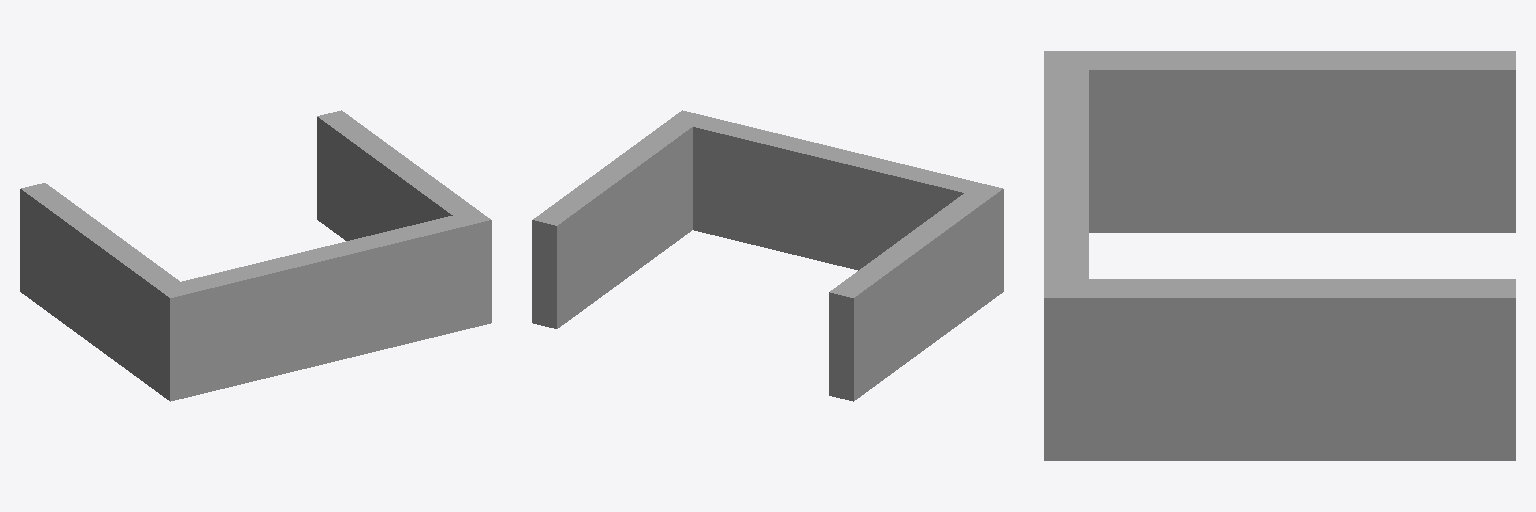
URDF robot description (ur5):
<?xml version="1.0" ?>
<!-- =================================================================================== -->
<!-- |    This document was autogenerated by xacro from [local-path]/devel/isae/install/share/ur5_description/urdf/ur5_joint_limited_robot.urdf.xacro | -->
<!-- |    EDITING THIS FILE BY HAND IS NOT RECOMMENDED                                 | -->
<!-- =================================================================================== -->
<robot name="ur5" xmlns:xacro="http://www.ros.org/wiki/xacro">
  <!-- common stuff -->
  <gazebo>
    <plugin filename="libgazebo_ros_control.so" name="ros_control">
      <!--robotNamespace>/</robotNamespace-->
      <!--robotSimType>gazebo_ros_control/DefaultRobotHWSim</robotSimType-->
    </plugin>
    <!--
    <plugin name="gazebo_ros_power_monitor_controller" filename="libgazebo_ros_power_monitor.so">
      <alwaysOn>true</alwaysOn>
      <updateRate>1.0</updateRate>
      <timeout>5</timeout>
      <powerStateTopic>power_state</powerStateTopic>
      <powerStateRate>10.0</powerStateRate>
      <fullChargeCapacity>87.78</fullChargeCapacity>
      <dischargeRate>-474</dischargeRate>
      <chargeRate>525</chargeRate>
      <dischargeVoltage>15.52</dischargeVoltage>
      <chargeVoltage>16.41</chargeVoltage>
    </plugin>
-->
  </gazebo>
  <!-- ur5 -->
  <!-- Inertia parameters -->
  <!-- This mass might be incorrect -->
  <!-- Kinematic model -->
  <!-- Properties from urcontrol.conf -->
  <!--
    DH for UR5:
    a = [0.00000, -0.42500, -0.39225,  0.00000,  0.00000,  0.0000]
    d = [0.089159,  0.00000,  0.00000,  0.10915,  0.09465,  0.0823]
    alpha = [ 1.570796327, 0, 0, 1.570796327, -1.570796327, 0 ]
    q_home_offset = [0, -1.570796327, 0, -1.570796327, 0, 0]
    joint_direction = [-1, -1, 1, 1, 1, 1]
    mass = [3.7000, 8.3930, 2.2750, 1.2190, 1.2190, 0.1879]
    center_of_mass = [ [0, -0.02561, 0.00193], [0.2125, 0, 0.11336], [0.11993, 0.0, 0.0265], [0, -0.0018, 0.01634], [0, 0.0018,0.01634], [0, 0, -0.001159] ]
  -->
  <!-- Arbitrary offsets for shoulder/elbow joints -->
  <!-- measured from model -->
  <!-- measured from model -->
  <!-- link lengths used in model -->
  <!--property name="shoulder_height" value="0.089159" /-->
  <!--property name="shoulder_offset" value="0.13585" /-->
  <!-- shoulder_offset - elbow_offset + wrist_1_length = 0.10915 -->
  <!--property name="upper_arm_length" value="0.42500" /-->
  <!--property name="elbow_offset" value="0.1197" /-->
  <!-- CAD measured -->
  <!--property name="forearm_length" value="0.39225" /-->
  <!--property name="wrist_1_length" value="0.093" /-->
  <!-- CAD measured -->
  <!--property name="wrist_2_length" value="0.09465" /-->
  <!-- In CAD this distance is 0.930, but in the spec it is 0.09465 -->
  <!--property name="wrist_3_length" value="0.0823" /-->
  <!-- manually measured -->
  <!-- manually measured -->
  <!-- manually measured -->
  <!-- manually measured -->
  <!-- manually measured -->
  <!-- arm -->
  <link name="base_link">
    <visual>
      <geometry>
        <mesh filename="package://ur5_description/meshes/ur5/visual/base.dae"/>
      </geometry>
      <material name="LightGrey">
        <color rgba="0.7 0.7 0.7 1.0"/>
      </material>
    </visual>
    <collision>
      <geometry>
        <mesh filename="package://ur5_description/meshes/ur5/collision/base.stl"/>
      </geometry>
    </collision>
    <inertial>
      <mass value="4.0"/>
      <origin rpy="0 0 0" xyz="0.0 0.0 0.0"/>
      <inertia ixx="0.00443333156" ixy="0.0" ixz="0.0" iyy="0.00443333156" iyz="0.0" izz="0.0072"/>
    </inertial>
  </link>
  <joint name="shoulder_pan_joint" type="revolute">
    <parent link="base_link"/>
    <child link="shoulder_link"/>
    <origin rpy="0.0 0.0 0.0" xyz="0.0 0.0 0.089159"/>
    <axis xyz="0 0 1"/>
    <limit effort="150.0" lower="-3.14159265" upper="3.14159265" velocity="3.15"/>
    <dynamics damping="0.0" friction="0.0"/>
  </joint>
  <link name="shoulder_link">
    <visual>
      <geometry>
        <mesh filename="package://ur5_description/meshes/ur5/visual/shoulder.dae"/>
      </geometry>
      <material name="LightGrey">
        <color rgba="0.7 0.7 0.7 1.0"/>
      </material>
    </visual>
    <collision>
      <geometry>
        <mesh filename="package://ur5_description/meshes/ur5/collision/shoulder.stl"/>
      </geometry>
    </collision>
    <inertial>
      <mass value="3.7"/>
      <origin rpy="0 0 0" xyz="0.0 0.0 0.0"/>
      <inertia ixx="0.010267495893" ixy="0.0" ixz="0.0" iyy="0.010267495893" iyz="0.0" izz="0.00666"/>
    </inertial>
  </link>
  <joint name="shoulder_lift_joint" type="revolute">
    <parent link="shoulder_link"/>
    <child link="upper_arm_link"/>
    <origin rpy="0.0 1.570796325 0.0" xyz="0.0 0.13585 0.0"/>
    <axis xyz="0 1 0"/>
    <limit effort="150.0" lower="-3.14159265" upper="3.14159265" velocity="3.15"/>
    <dynamics damping="0.0" friction="0.0"/>
  </joint>
  <link name="upper_arm_link">
    <visual>
      <geometry>
        <mesh filename="package://ur5_description/meshes/ur5/visual/upperarm.dae"/>
      </geometry>
      <material name="LightGrey">
        <color rgba="0.7 0.7 0.7 1.0"/>
      </material>
    </visual>
    <collision>
      <geometry>
        <mesh filename="package://ur5_description/meshes/ur5/collision/upperarm.stl"/>
      </geometry>
    </collision>
    <inertial>
      <mass value="8.393"/>
      <origin rpy="0 0 0" xyz="0.0 0.0 0.28"/>
      <inertia ixx="0.22689067591" ixy="0.0" ixz="0.0" iyy="0.22689067591" iyz="0.0" izz="0.0151074"/>
    </inertial>
  </link>
  <joint name="elbow_joint" type="revolute">
    <parent link="upper_arm_link"/>
    <child link="forearm_link"/>
    <origin rpy="0.0 0.0 0.0" xyz="0.0 -0.1197 0.425"/>
    <axis xyz="0 1 0"/>
    <limit effort="150.0" lower="-3.14159265" upper="3.14159265" velocity="3.15"/>
    <dynamics damping="0.0" friction="0.0"/>
  </joint>
  <link name="forearm_link">
    <visual>
      <geometry>
        <mesh filename="package://ur5_description/meshes/ur5/visual/forearm.dae"/>
      </geometry>
      <material name="LightGrey">
        <color rgba="0.7 0.7 0.7 1.0"/>
      </material>
    </visual>
    <collision>
      <geometry>
        <mesh filename="package://ur5_description/meshes/ur5/collision/forearm.stl"/>
      </geometry>
    </collision>
    <inertial>
      <mass value="2.275"/>
      <origin rpy="0 0 0" xyz="0.0 0.0 0.25"/>
      <inertia ixx="0.049443313556" ixy="0.0" ixz="0.0" iyy="0.049443313556" iyz="0.0" izz="0.004095"/>
    </inertial>
  </link>
  <joint name="wrist_1_joint" type="revolute">
    <parent link="forearm_link"/>
    <child link="wrist_1_link"/>
    <origin rpy="0.0 1.570796325 0.0" xyz="0.0 0.0 0.39225"/>
    <axis xyz="0 1 0"/>
    <limit effort="28.0" lower="-3.14159265" upper="3.14159265" velocity="3.2"/>
    <dynamics damping="0.0" friction="0.0"/>
  </joint>
  <link name="wrist_1_link">
    <visual>
      <geometry>
        <mesh filename="package://ur5_description/meshes/ur5/visual/wrist1.dae"/>
      </geometry>
      <material name="LightGrey">
        <color rgba="0.7 0.7 0.7 1.0"/>
      </material>
    </visual>
    <collision>
      <geometry>
        <mesh filename="package://ur5_description/meshes/ur5/collision/wrist1.stl"/>
      </geometry>
    </collision>
    <inertial>
      <mass value="1.219"/>
      <origin rpy="0 0 0" xyz="0.0 0.0 0.0"/>
      <inertia ixx="0.111172755531" ixy="0.0" ixz="0.0" iyy="0.111172755531" iyz="0.0" izz="0.21942"/>
    </inertial>
  </link>
  <joint name="wrist_2_joint" type="revolute">
    <parent link="wrist_1_link"/>
    <child link="wrist_2_link"/>
    <origin rpy="0.0 0.0 0.0" xyz="0.0 0.093 0.0"/>
    <axis xyz="0 0 1"/>
    <limit effort="28.0" lower="-3.14159265" upper="3.14159265" velocity="3.2"/>
    <dynamics damping="0.0" friction="0.0"/>
  </joint>
  <link name="wrist_2_link">
    <visual>
      <geometry>
        <mesh filename="package://ur5_description/meshes/ur5/visual/wrist2.dae"/>
      </geometry>
      <material name="LightGrey">
        <color rgba="0.7 0.7 0.7 1.0"/>
      </material>
    </visual>
    <collision>
      <geometry>
        <mesh filename="package://ur5_description/meshes/ur5/collision/wrist2.stl"/>
      </geometry>
    </collision>
    <inertial>
      <mass value="1.219"/>
      <origin rpy="0 0 0" xyz="0.0 0.0 0.0"/>
      <inertia ixx="0.111172755531" ixy="0.0" ixz="0.0" iyy="0.111172755531" iyz="0.0" izz="0.21942"/>
    </inertial>
  </link>
  <joint name="wrist_3_joint" type="revolute">
    <parent link="wrist_2_link"/>
    <child link="wrist_3_link"/>
    <origin rpy="0.0 0.0 0.0" xyz="0.0 0.0 0.09465"/>
    <axis xyz="0 1 0"/>
    <limit effort="28.0" lower="-3.14159265" upper="3.14159265" velocity="3.2"/>
    <dynamics damping="0.0" friction="0.0"/>
  </joint>
  <link name="wrist_3_link">
    <visual>
      <geometry>
        <mesh filename="package://ur5_description/meshes/ur5/visual/wrist3.dae"/>
      </geometry>
      <material name="LightGrey">
        <color rgba="0.7 0.7 0.7 1.0"/>
      </material>
    </visual>
    <collision>
      <geometry>
        <mesh filename="package://ur5_description/meshes/ur5/collision/wrist3.stl"/>
      </geometry>
    </collision>
    <inertial>
      <mass value="0.1879"/>
      <origin rpy="0 0 0" xyz="0.0 0.0 0.0"/>
      <inertia ixx="0.0171364731454" ixy="0.0" ixz="0.0" iyy="0.0171364731454" iyz="0.0" izz="0.033822"/>
    </inertial>
  </link>
  <joint name="ee_fixed_joint" type="fixed">
    <parent link="wrist_3_link"/>
    <child link="ee_link"/>
    <origin rpy="0.0 0.0 1.570796325" xyz="0.0 0.0823 0.0"/>
  </joint>
  <link name="ee_link">
    <collision>
      <geometry>
        <box size="0.01 0.01 0.01"/>
      </geometry>
      <origin rpy="0 0 0" xyz="-0.01 0 0"/>
    </collision>
  </link>
  <transmission name="shoulder_pan_trans">
    <type>transmission_interface/SimpleTransmission</type>
    <joint name="shoulder_pan_joint">
      <hardwareInterface>PositionJointInterface</hardwareInterface>
    </joint>
    <actuator name="shoulder_pan_motor">
      <mechanicalReduction>1</mechanicalReduction>
    </actuator>
  </transmission>
  <transmission name="shoulder_lift_trans">
    <type>transmission_interface/SimpleTransmission</type>
    <joint name="shoulder_lift_joint">
      <hardwareInterface>PositionJointInterface</hardwareInterface>
    </joint>
    <actuator name="shoulder_lift_motor">
      <mechanicalReduction>1</mechanicalReduction>
    </actuator>
  </transmission>
  <transmission name="elbow_trans">
    <type>transmission_interface/SimpleTransmission</type>
    <joint name="elbow_joint">
      <hardwareInterface>PositionJointInterface</hardwareInterface>
    </joint>
    <actuator name="elbow_motor">
      <mechanicalReduction>1</mechanicalReduction>
    </actuator>
  </transmission>
  <transmission name="wrist_1_trans">
    <type>transmission_interface/SimpleTransmission</type>
    <joint name="wrist_1_joint">
      <hardwareInterface>PositionJointInterface</hardwareInterface>
    </joint>
    <actuator name="wrist_1_motor">
      <mechanicalReduction>1</mechanicalReduction>
    </actuator>
  </transmission>
  <transmission name="wrist_2_trans">
    <type>transmission_interface/SimpleTransmission</type>
    <joint name="wrist_2_joint">
      <hardwareInterface>PositionJointInterface</hardwareInterface>
    </joint>
    <actuator name="wrist_2_motor">
      <mechanicalReduction>1</mechanicalReduction>
    </actuator>
  </transmission>
  <transmission name="wrist_3_trans">
    <type>transmission_interface/SimpleTransmission</type>
    <joint name="wrist_3_joint">
      <hardwareInterface>PositionJointInterface</hardwareInterface>
    </joint>
    <actuator name="wrist_3_motor">
      <mechanicalReduction>1</mechanicalReduction>
    </actuator>
  </transmission>
  <!-- nothing to do here at the moment -->
  <!-- ROS base_link to UR 'Base' Coordinates transform -->
  <link name="base"/>
  <joint name="base_link-base_fixed_joint" type="fixed">
    <!-- NOTE: this rotation is only needed as long as base_link itself is
                 not corrected wrt the real robot (ie: rotated over 180
                 degrees)
      -->
    <origin rpy="0 0 -3.14159265" xyz="0 0 0"/>
    <parent link="base_link"/>
    <child link="base"/>
  </joint>
  <!-- Frame coincident with all-zeros TCP on UR controller -->
  <link name="tool0">
    <visual>
      <geometry>
	<box size="0.005 0.02 0.05" />
      </geometry>
      <origin xyz="0.03 0 0.035" />
      <material name="LightGrey">
        <color rgba="0.7 0.7 0.7 1.0"/>
      </material>
    </visual>
    <visual>
      <geometry>
	<box size="0.005 0.02 0.05" />
      </geometry>
      <origin xyz="-0.03 0 0.035" />
      <material name="LightGrey">
        <color rgba="0.7 0.7 0.7 1.0"/>
      </material>
    </visual>
    <visual>
      <geometry>
	<box size="0.065 0.02 0.005" />
      </geometry>
      <origin xyz="0 0 0.01" />
      <material name="LightGrey">
        <color rgba="0.7 0.7 0.7 1.0"/>
      </material>
    </visual>

    <collision>
      <geometry>
	<box size="0.005 0.02 0.05" />
      </geometry>
      <origin xyz="0.03 0 0.035" />
    </collision>
    <collision>
      <geometry>
	<box size="0.005 0.02 0.05" />
      </geometry>
      <origin xyz="-0.03 0 0.035" />
    </collision>
    <collision>
      <geometry>
	<box size="0.065 0.02 0.005" />
      </geometry>
      <origin xyz="0 0 0.01" />
    </collision>
  </link>
  <joint name="wrist_3_link-tool0_fixed_joint" type="fixed">
    <origin rpy="-1.570796325 0 0" xyz="0 0.0823 0"/>
    <parent link="wrist_3_link"/>
    <child link="tool0"/>
  </joint>
  <link name="world"/>
  <joint name="world_joint" type="fixed">
    <parent link="world"/>
    <child link="base_link"/>
    <origin rpy="0.0 0.0 0.0" xyz="0.0 0.0 0.0"/>
  </joint>
</robot>

--- Render facts (derived) ---
Views: 3 orthographic renders of the robot side by side, from view 1: azimuth 30°, elevation 25°; view 2: azimuth 150°, elevation 25°; view 3: azimuth 270°, elevation 25°.
Robot: ur5 — 11 links, 10 joints (6 revolute, 4 fixed); root link world; default pose: all joints at 0.
Visible links, largest first — view 1: tool0; view 2: tool0; view 3: tool0.
Boxes of the visible links, box(x1,y1,x2,y2) form: tool0: box(20, 110, 491, 401); tool0: box(532, 110, 1003, 401); tool0: box(1044, 51, 1515, 460).
Bounding box of the posed robot: 0.065 × 0.0525 × 0.02 m (x, y, z).
Meshes: 7 distinct files referenced, 0 mesh visuals loaded (none loaded); not drawn: 7 (reference not matched to a file when rendering).